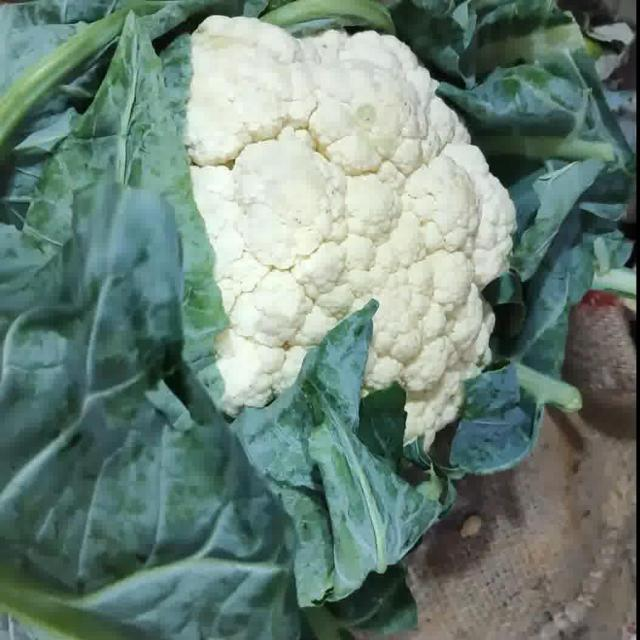Cauliflower: (185, 16, 515, 448)
